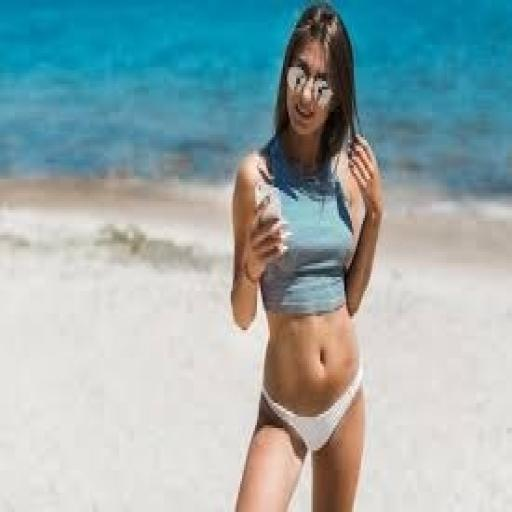texting: (224, 0, 388, 509)
